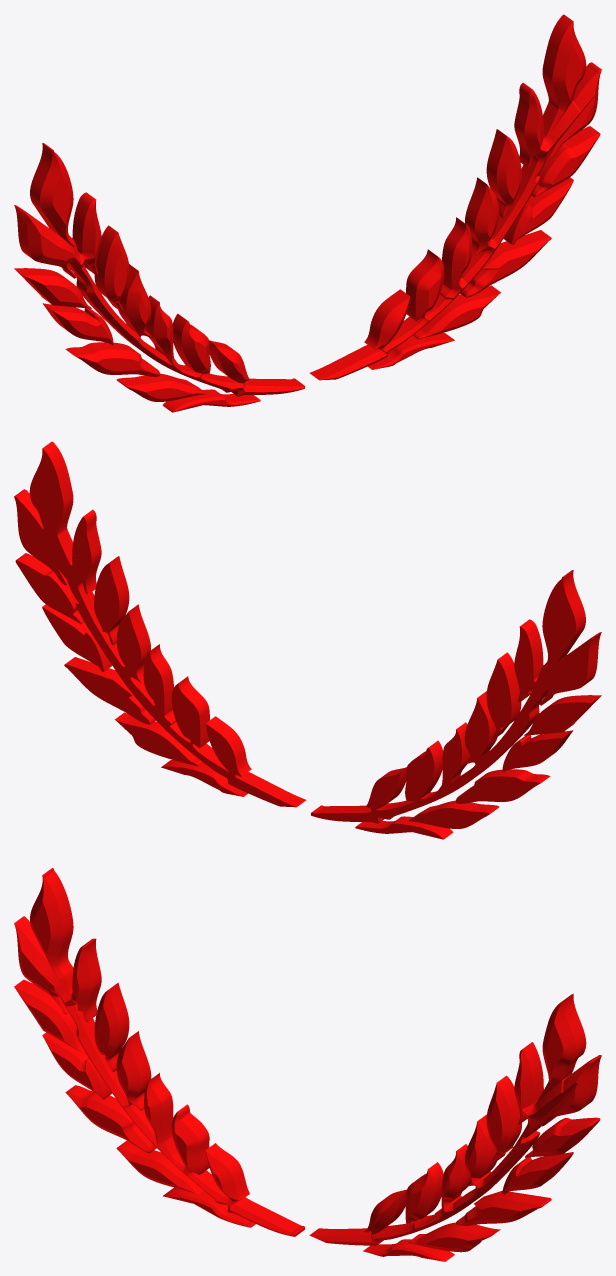
The model's file is Sales.gltf.
3 renders of one model, top to bottom at view 1: azimuth 30°, elevation 25°; view 2: azimuth 150°, elevation 25°; view 3: azimuth 330°, elevation 25°, orthographic.
Size of the model in its own units: 0.2703 by 0.1356 by 0.0118.
